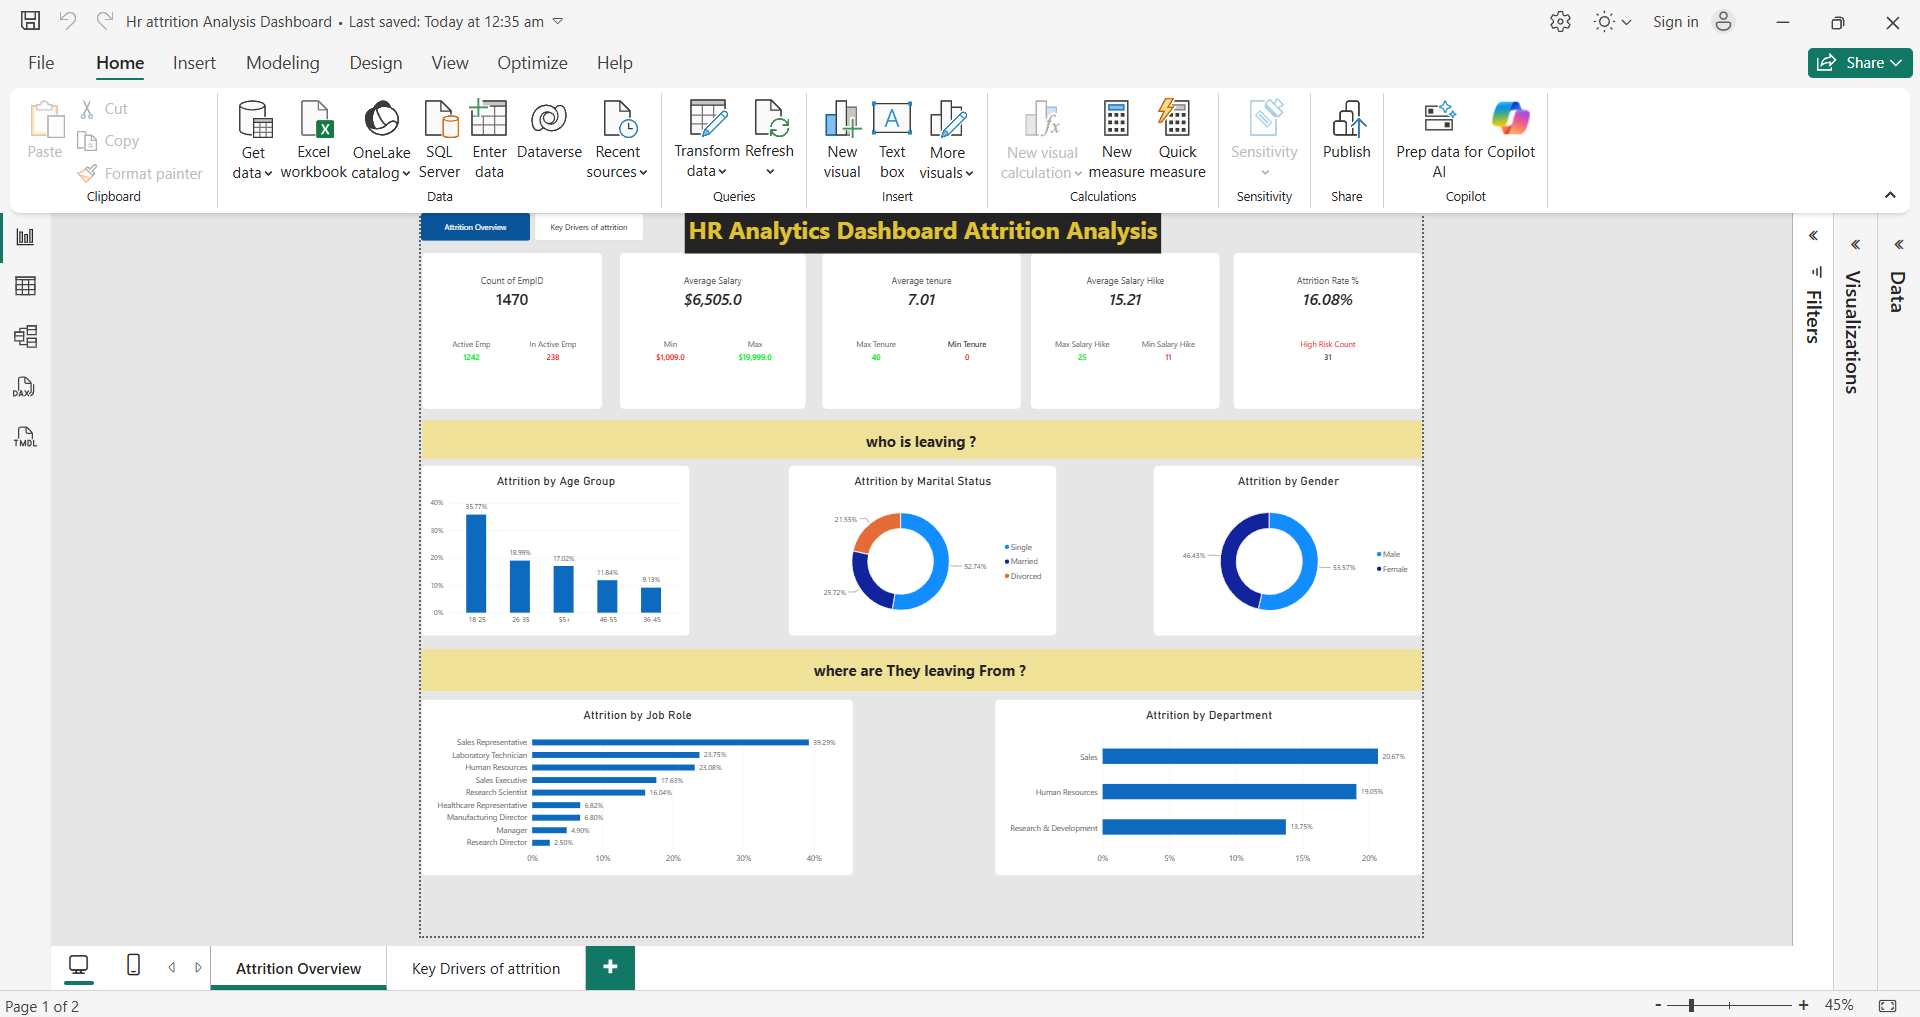

What the dashboard file says about the page in this screenshot:
{"tool":"powerbi","page":{"name":"Attrition Overview ","canvas":[1800,1300],"ordinal":0},"visuals":[{"type":"cardVisual","fields":{"Data":["Count(HR_Analytics.EmpID)"]},"box":[2.1,72.9,323.4,280.8],"z":0},{"type":"cardVisual","fields":{"Data":["Avg(Employee_Data.MonthlyIncome)"]},"box":[356.2,72.9,334.7,280.8],"z":1000},{"type":"cardVisual","fields":{"Data":["Avg(Employee_Data.YearsAtCompany)"]},"box":[720.8,72.9,357.1,280.8],"z":2000},{"type":"cardVisual","fields":{"Data":["Avg(HR_Analytics.PercentSalaryHike)"]},"box":[1095.8,72.9,339.2,280.8],"z":3000},{"type":"cardVisual","fields":{"Data":["_Measure.Attrition Rate %"]},"box":[1460.4,72.9,339.2,280.8],"z":4000},{"type":"textbox","box":[1.3,372.1,1800,68.8],"z":5000},{"type":"columnChart","title":" Attrition by Age Group","fields":{"Category":["HR_Analytics.AgeGroup"],"Y":["_Measure.Attrition Rate %"]},"box":[0,454.2,483.3,306.2],"z":6000},{"type":"donutChart","title":" Attrition by Marital Status","fields":{"Category":["HR_Analytics.MaritalStatus"],"Y":["_Measure.Attrition Rate %"]},"box":[660.4,454.2,481.2,306.2],"z":7000},{"type":"donutChart","title":"Attrition by Gender ","fields":{"Category":["HR_Analytics.Gender"],"Y":["_Measure.Attrition Rate %"]},"box":[1316.7,454.2,483.3,306.2],"z":8000},{"type":"textbox","box":[0,783.3,1800,75],"z":9000},{"type":"clusteredBarChart","title":" Attrition by Job Role","fields":{"Category":["HR_Analytics.JobRole"],"Y":["_Measure.Attrition Rate %"]},"box":[0,872.9,777.1,316.7],"z":9001},{"type":"clusteredBarChart","title":" Attrition by Department","fields":{"Category":["HR_Analytics.Department"],"Y":["_Measure.Attrition Rate %"]},"box":[1031.2,872.9,768.8,316.7],"z":9002},{"type":"textbox","box":[472.9,0,856.2,72.9],"z":9003},{"type":"pageNavigator","box":[0,0,400,50],"z":9004}]}

Visuals, with their boxes on the page's 1800x1300 design canvas (x1, y1, x2, y2). These are canvas units, not pixel positions in the 1920x1017 screenshot, which may show the page scaled, cropped or inside an application window:
cardVisual - Count(HR_Analytics.EmpID): BBox(2, 73, 326, 354)
cardVisual - Avg(Employee_Data.MonthlyIncome): BBox(356, 73, 691, 354)
cardVisual - Avg(Employee_Data.YearsAtCompany): BBox(721, 73, 1078, 354)
cardVisual - Avg(HR_Analytics.PercentSalaryHike): BBox(1096, 73, 1435, 354)
cardVisual - _Measure.Attrition Rate %: BBox(1460, 73, 1800, 354)
textbox: BBox(1, 372, 1801, 441)
" Attrition by Age Group" columnChart: BBox(0, 454, 483, 760)
" Attrition by Marital Status" donutChart: BBox(660, 454, 1142, 760)
"Attrition by Gender " donutChart: BBox(1317, 454, 1800, 760)
textbox: BBox(0, 783, 1800, 858)
" Attrition by Job Role" clusteredBarChart: BBox(0, 873, 777, 1190)
" Attrition by Department" clusteredBarChart: BBox(1031, 873, 1800, 1190)
textbox: BBox(473, 0, 1329, 73)
pageNavigator: BBox(0, 0, 400, 50)
